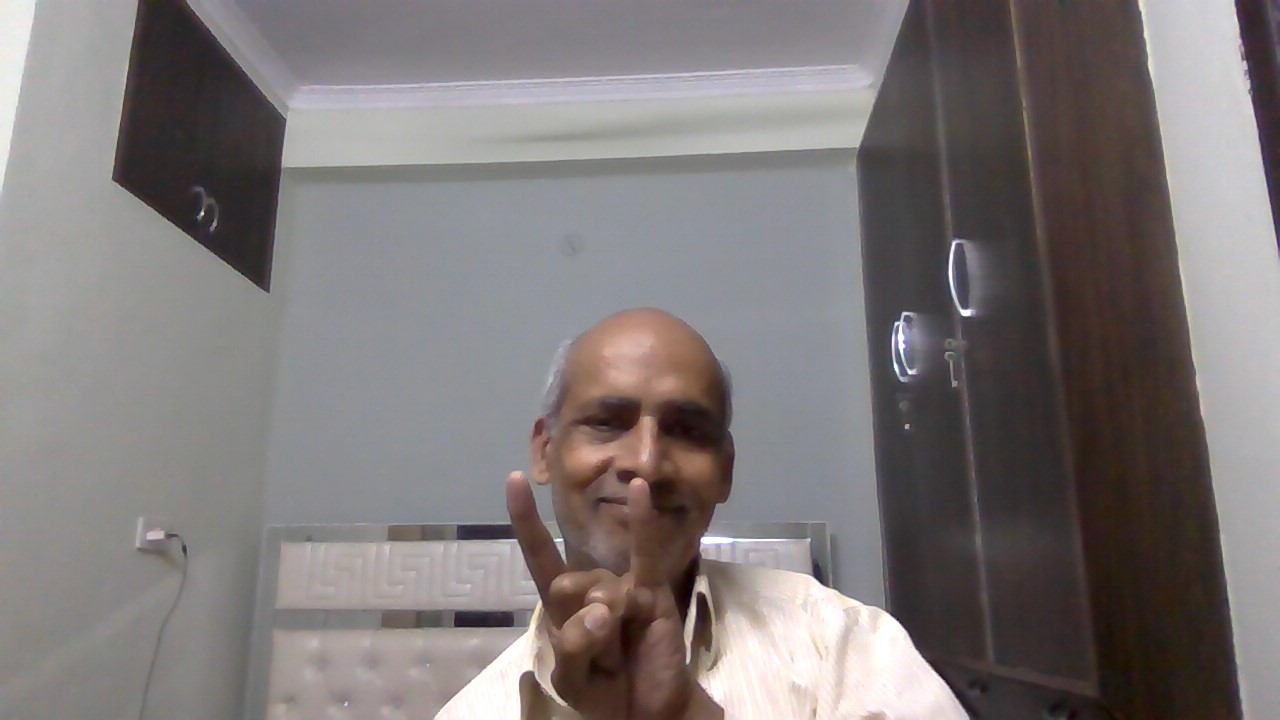Select All: (492, 464, 734, 720)
